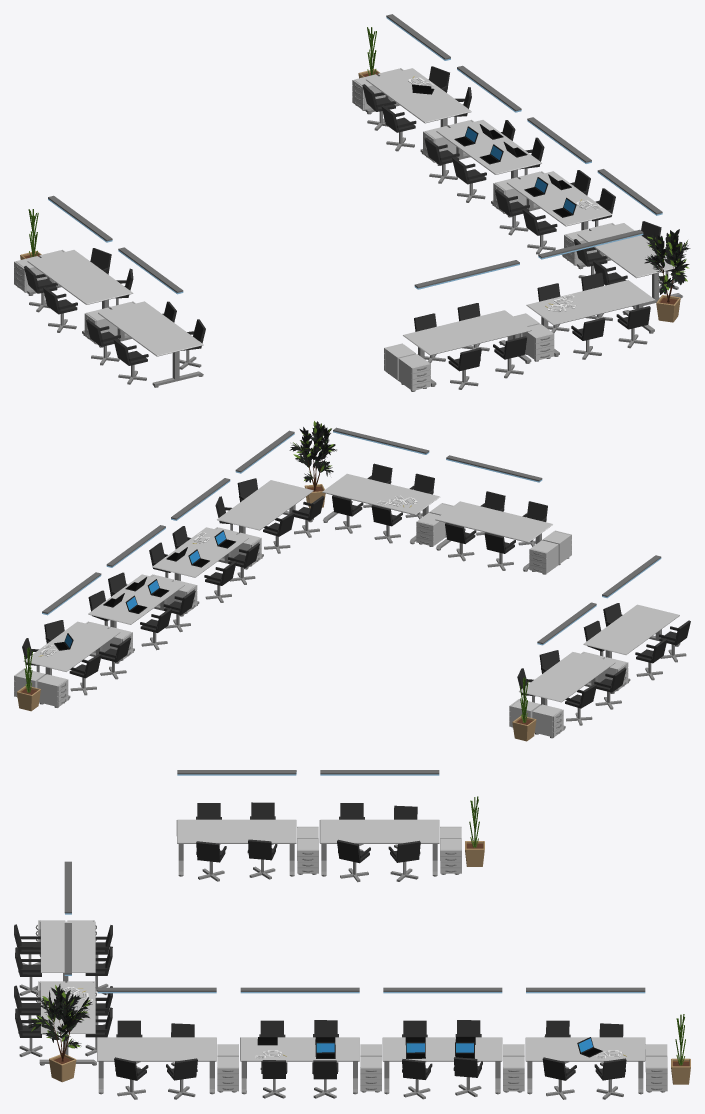
3 views of the same model, one above another, from view 1: azimuth 30°, elevation 25°; view 2: azimuth 150°, elevation 25°; view 3: azimuth 270°, elevation 25° (orthographic). The views are drawn at different scales.
Parts seen in each view (by area): view 1: d-roomcomp-r8-server; view 2: d-roomcomp-r8-server; view 3: d-roomcomp-r8-server.
Boxes of the visible parts, left/top/right/bottom form: d-roomcomp-r8-server: left=14, top=14, right=690, bottom=391; d-roomcomp-r8-server: left=14, top=421, right=690, bottom=741; d-roomcomp-r8-server: left=14, top=770, right=690, bottom=1099.
Bounding box in the file's own units: 19.45 × 3.23 × 21.33.
Materials: 3 (3 with a texture image).
